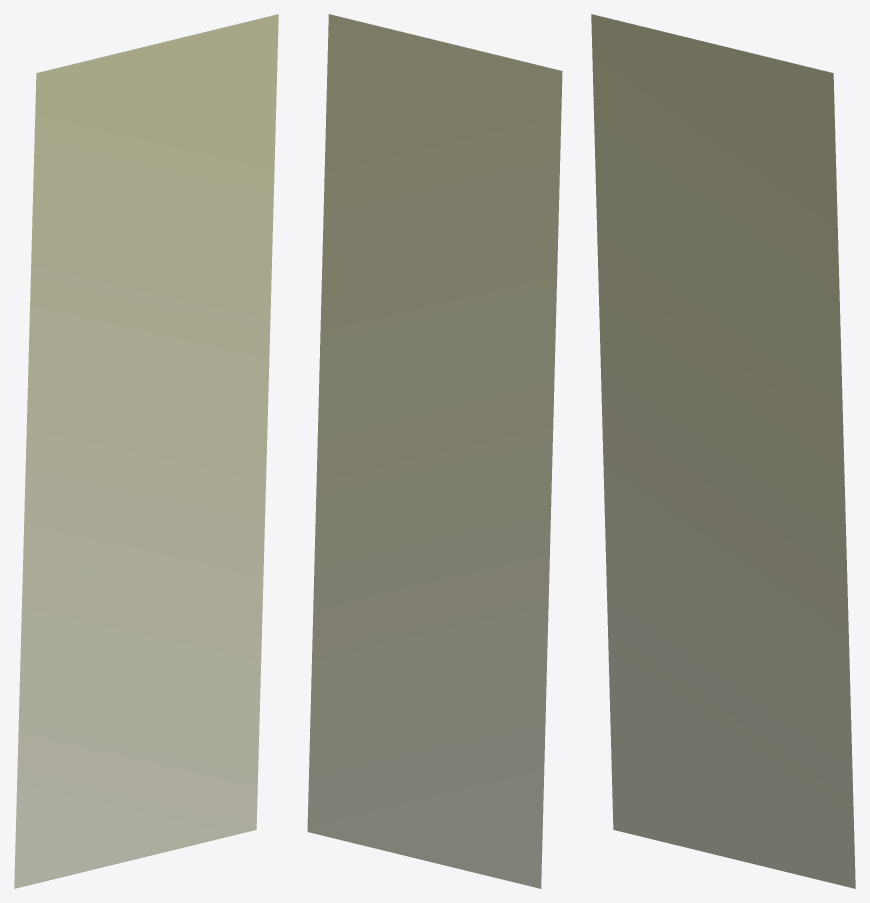
The model's file is dor.FBX.
3 views of the same model, side by side, from view 1: azimuth 30°, elevation 25°; view 2: azimuth 150°, elevation 25°; view 3: azimuth 330°, elevation 25° (orthographic). The views are drawn at different scales.
Visible parts, largest first — view 1: Plane006; view 2: Plane006; view 3: Plane006.
Boxes of the visible parts, x1,y1,x2,y2 form: Plane006: [14, 14, 278, 888]; Plane006: [307, 14, 562, 888]; Plane006: [591, 14, 855, 888].
Bounding box in the file's own units: 15.85 × 52 × 2.5.
